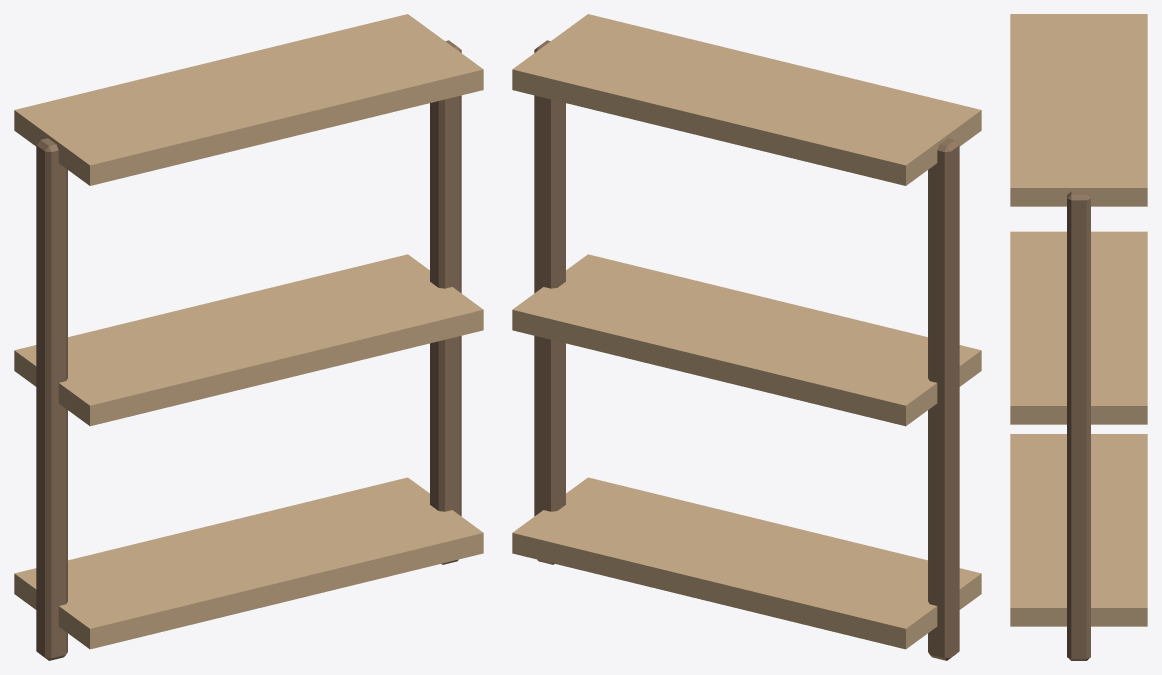
The model's file is feudal-japan-castle-town-room-divider-shelf-6a86a65c__26472.glb.
3 renders of one model, left to right at view 1: azimuth 30°, elevation 25°; view 2: azimuth 150°, elevation 25°; view 3: azimuth 270°, elevation 25°, orthographic. The views are drawn at different scales.
Visible parts, largest first — view 1: room-divider-shelf; view 2: room-divider-shelf; view 3: room-divider-shelf.
Part boxes in pixels (x1=…): room-divider-shelf: x1=14, y1=14, x2=483, y2=660; room-divider-shelf: x1=512, y1=14, x2=981, y2=660; room-divider-shelf: x1=1010, y1=14, x2=1147, y2=660.
Size of the model in its own units: 1.27 by 1.51 by 0.4001.
